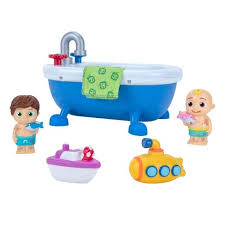bathub: (43, 30, 185, 140)
